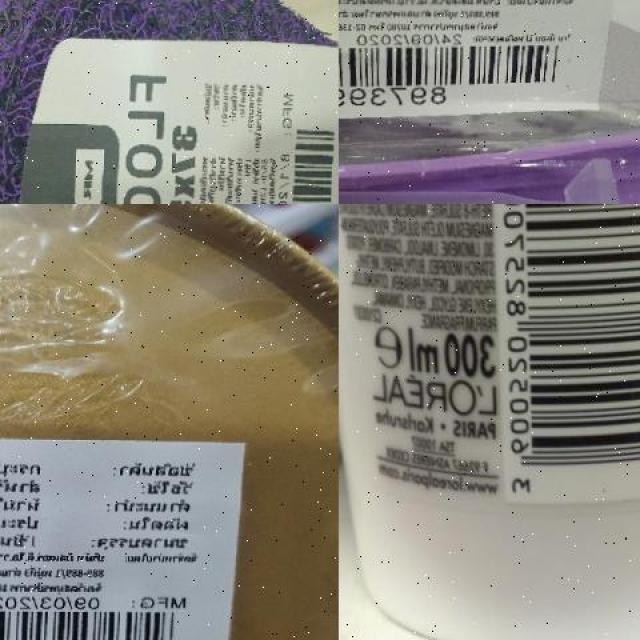Barcode: (492, 204, 640, 505), (338, 31, 574, 109), (0, 602, 188, 640), (282, 109, 338, 204)
